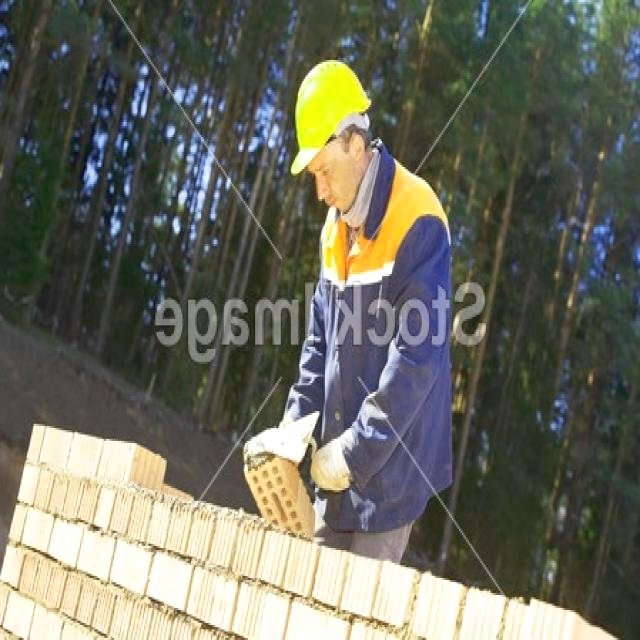Con_Casco: (292, 61, 372, 202)
